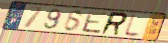6: (63, 10, 85, 32)
7: (22, 6, 44, 29)
9: (44, 8, 62, 31)
E: (81, 10, 109, 35)
L: (122, 12, 142, 40)
R: (99, 11, 129, 37)
